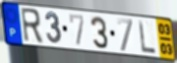3: (90, 15, 110, 50), (44, 11, 63, 46)
7: (67, 13, 86, 48), (116, 18, 134, 53)
L: (137, 19, 157, 55)
R: (19, 6, 45, 45)
